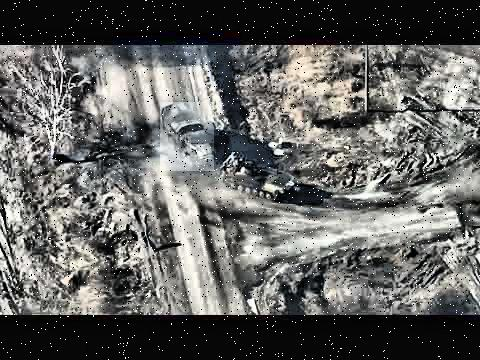military-vehicle: (221, 152, 298, 202), (160, 103, 214, 172)
